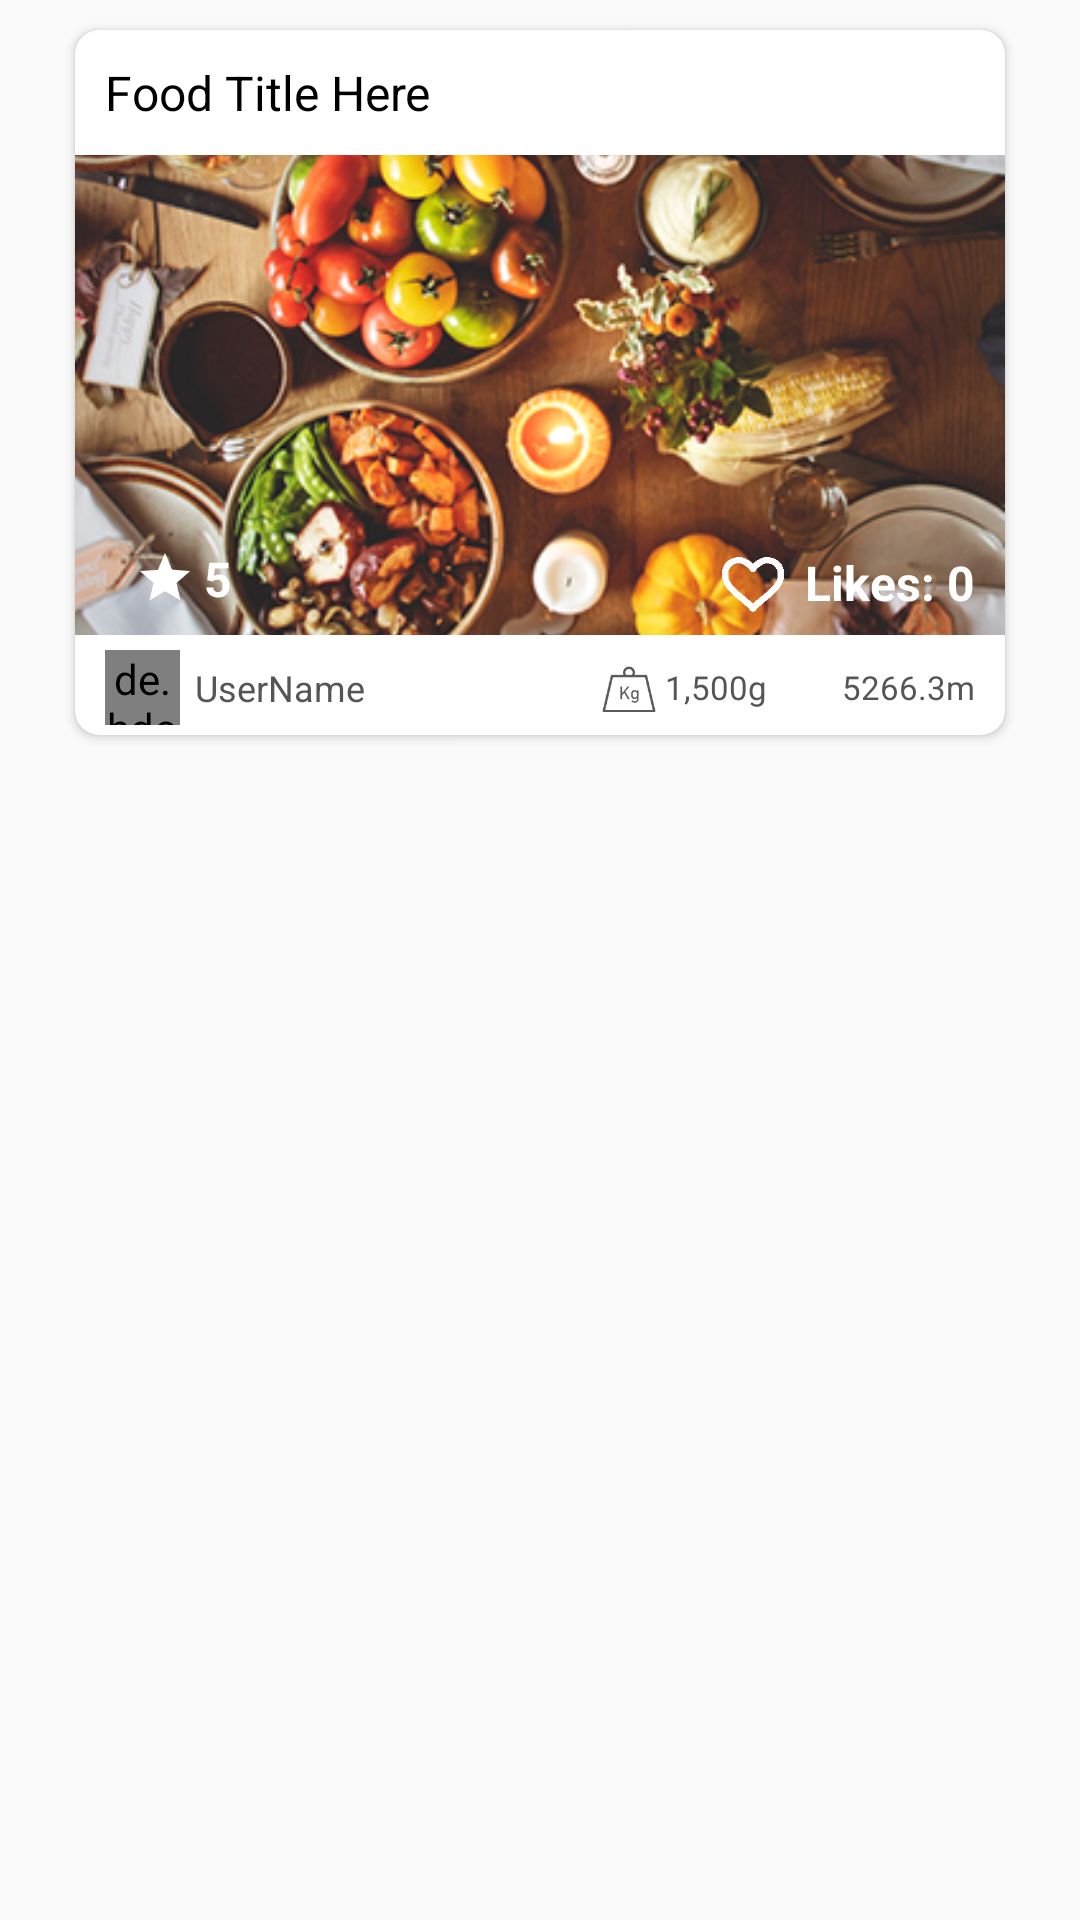

Screen size 1080w x 1920h. Icon name, then its center in pixels as (x=x, y=y):
star: (x=165, y=578)
weight: (x=629, y=689)
